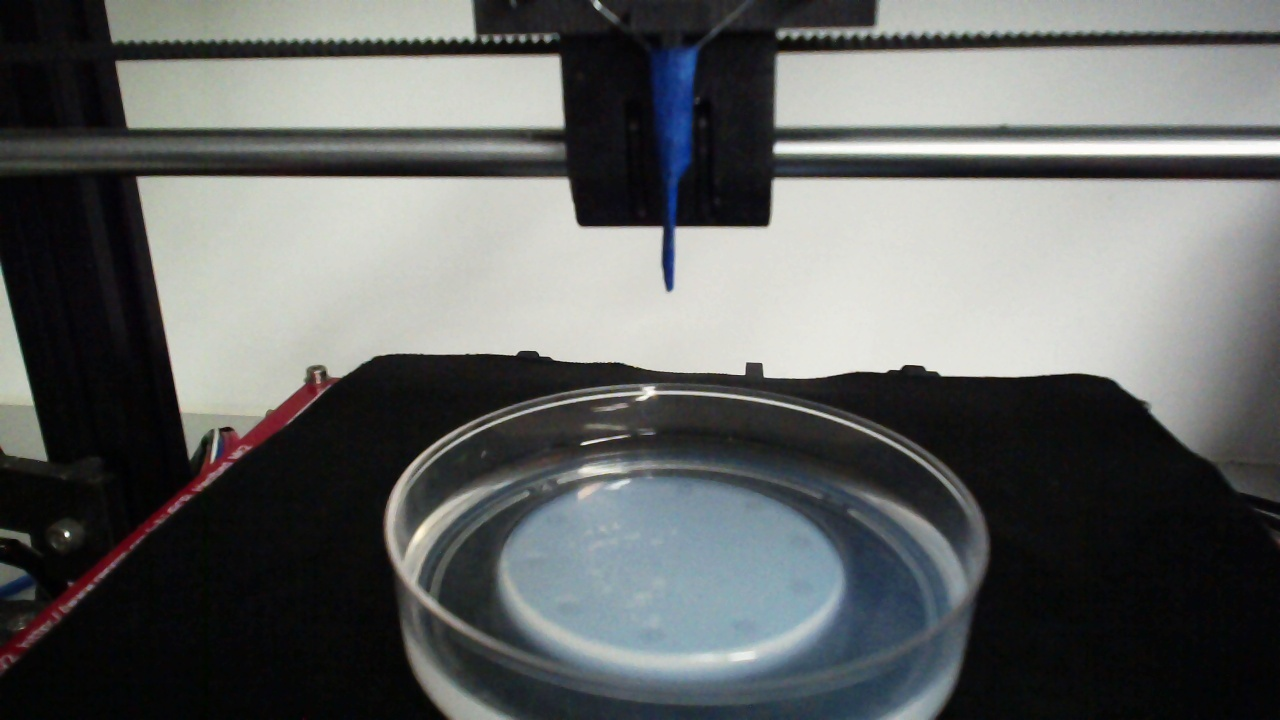groove: (551, 596, 588, 624), (632, 623, 668, 648), (513, 550, 546, 576), (787, 576, 819, 601), (732, 616, 764, 639), (787, 533, 819, 553), (543, 508, 573, 529), (670, 479, 699, 499), (740, 495, 769, 514)
needle: (661, 49, 696, 290)
